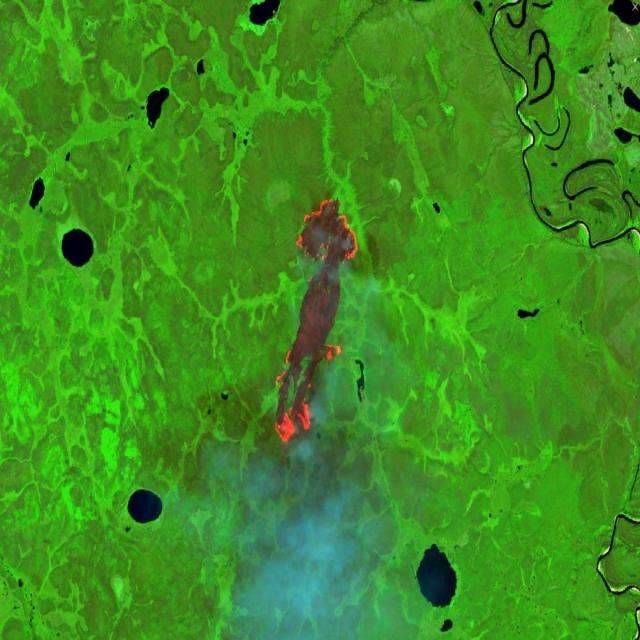fire: (270, 193, 359, 451)
